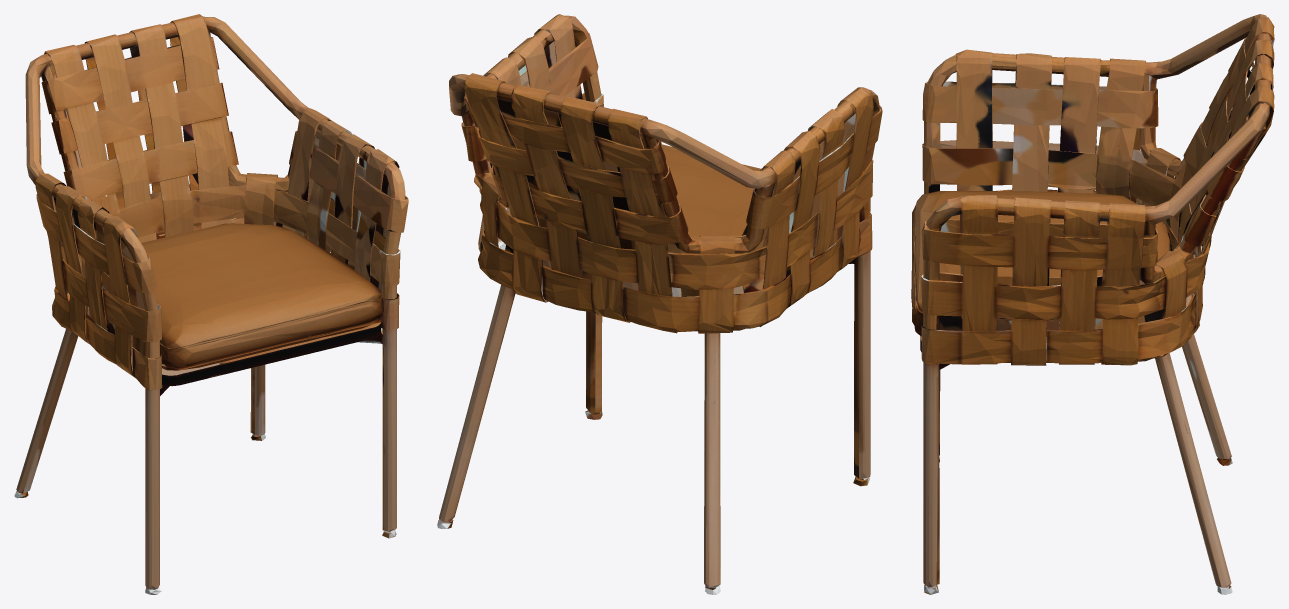
File: edited_mesh.glb
The picture shows the model from 3 angles, left to right: view 1: azimuth 30°, elevation 25°; view 2: azimuth 150°, elevation 25°; view 3: azimuth 270°, elevation 25°; orthographic projection. The views are drawn at different scales.
Parts seen in each view (by area): view 1: solid_001_wire; view 2: solid_001_wire; view 3: solid_001_wire.
Part boxes in pixels (<box>): solid_001_wire: <box>14,14,408,594</box>; solid_001_wire: <box>437,14,882,594</box>; solid_001_wire: <box>911,14,1274,594</box>.
Bounding box in the file's own units: 1.04 × 1.48 × 1.04.
1 material, 1 textured.
